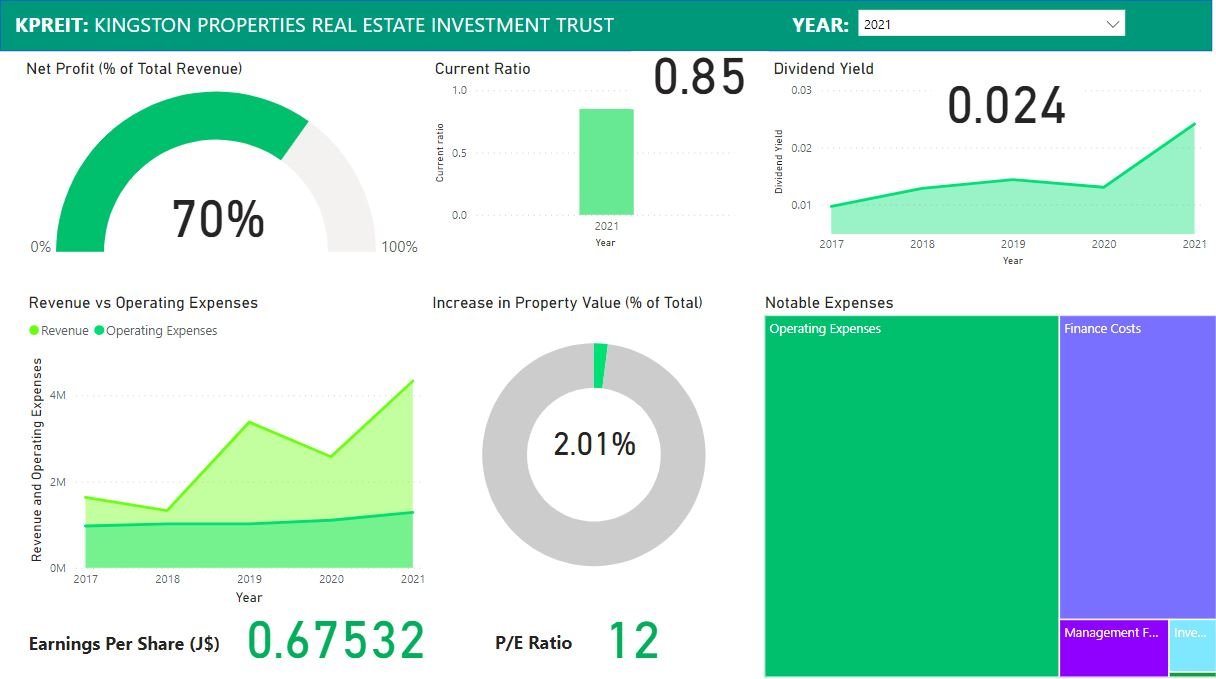

The page's visual inventory and layout, read from the dashboard file:
{"tool":"powerbi","page":{"name":"Page 1","canvas":[1280,720],"ordinal":0},"visuals":[{"type":"shape","box":[0,0,1270.4,53.6],"z":0},{"type":"textbox","box":[11,5.5,723.8,43.9],"z":1000},{"type":"textbox","box":[825.4,5.5,127.7,41.2],"z":2000},{"type":"gauge","title":"Net Profit (% of Total Revenue)","fields":{"Y":["Avg(Sheet1.Net Profit/Total Revenue)"],"MinValue":["Sheet1.min_np/tr"],"MaxValue":["Sheet1.max_np/tr"]},"box":[22,61.8,425.8,222.5],"z":3000},{"type":"areaChart","title":"Dividend Yield","fields":{"Category":["Sheet1 (2).Year","Sheet1 (2).Dividend Yield"],"Y":["Sum(Sheet1 (2).Dividend Yield)"]},"box":[806.2,61.8,464.2,222.5],"z":4000},{"type":"clusteredColumnChart","title":"Current Ratio","fields":{"Category":["Sheet1.Year","Sheet1.Current ratio"],"Y":["Sum(Sheet1.Current ratio)"]},"box":[450.5,61.8,324.1,203.3],"z":5000},{"type":"areaChart","title":"Revenue vs Operating Expenses","fields":{"Category":["Sheet1 (2).Year"],"Y":["Sum(Sheet1 (2).Revenue)","Sum(Sheet1 (2).Operating Expenses)"]},"box":[24.7,306.3,425.8,332.4],"z":6000},{"type":"treemap","title":"Notable Expenses","fields":{"Values":["Sum(Sheet1.Management Fees)","Sum(Sheet1.Loss on disposal of furniture and equipment)","Sum(Sheet1.Investment Fee)","Sum(Sheet1.Finance Costs)","Sum(Sheet1.Operating Expenses)"]},"box":[796.6,306.3,483.4,407.9],"z":7000},{"type":"donutChart","title":"Increase in Property Value (% of Total)","fields":{"Y":["Sheet1.abs_ipv","Sheet1.Other Value"]},"box":[447.7,306.3,348.8,321.4],"z":8000},{"type":"card","fields":{"Values":["Avg(Sheet1.Dividend Yield)"]},"box":[976.5,85.2,157.9,57.7],"z":9000},{"type":"card","fields":{"Values":["Avg(Sheet1.Current ratio)"]},"box":[662,53.6,144.2,60.4],"z":10000},{"type":"slicer","fields":{"Values":["Sheet1.Year"]},"box":[890,0,299.4,53.6],"z":11000},{"type":"card","fields":{"Values":["Sheet1.np/tr"]},"box":[142.8,201.9,171.7,63.2],"z":12000},{"type":"textbox","box":[24.7,656.5,232.1,50.8],"z":13000},{"type":"card","fields":{"Values":["Sum(Sheet1.Earnings per stck unit (adj.) (adj.))"]},"box":[229.4,640,245.8,67.3],"z":14000},{"type":"textbox","box":[513.6,655.1,108.5,33],"z":15000},{"type":"card","fields":{"Values":["Sheet1.P/E Ratio"]},"box":[601.5,641.4,122.2,65.9],"z":16000},{"type":"card","fields":{"Values":["Sheet1.ipv"]},"box":[563.1,446.4,119.5,52.2],"z":17000}]}

Visuals, with their boxes in screenshot pixels (x1, y1, x2, y2), scaled from the page's 1280x720 canvas onto the 1216x679 screenshot:
shape: region(0, 0, 1207, 51)
textbox: region(10, 5, 698, 47)
textbox: region(784, 5, 905, 44)
"Net Profit (% of Total Revenue)" gauge: region(21, 58, 425, 268)
"Dividend Yield" areaChart: region(766, 58, 1207, 268)
"Current Ratio" clusteredColumnChart: region(428, 58, 736, 250)
"Revenue vs Operating Expenses" areaChart: region(23, 289, 428, 602)
"Notable Expenses" treemap: region(757, 289, 1215, 674)
"Increase in Property Value (% of Total)" donutChart: region(425, 289, 757, 592)
card - Avg(Sheet1.Dividend Yield): region(928, 80, 1078, 135)
card - Avg(Sheet1.Current ratio): region(629, 51, 766, 108)
slicer - Sheet1.Year: region(846, 0, 1130, 51)
card - Sheet1.np/tr: region(136, 190, 299, 250)
textbox: region(23, 619, 244, 667)
card - Sum(Sheet1.Earnings per stck unit (adj.) (adj.)): region(218, 604, 451, 667)
textbox: region(488, 618, 591, 649)
card - Sheet1.P/E Ratio: region(571, 605, 688, 667)
card - Sheet1.ipv: region(535, 421, 648, 470)
